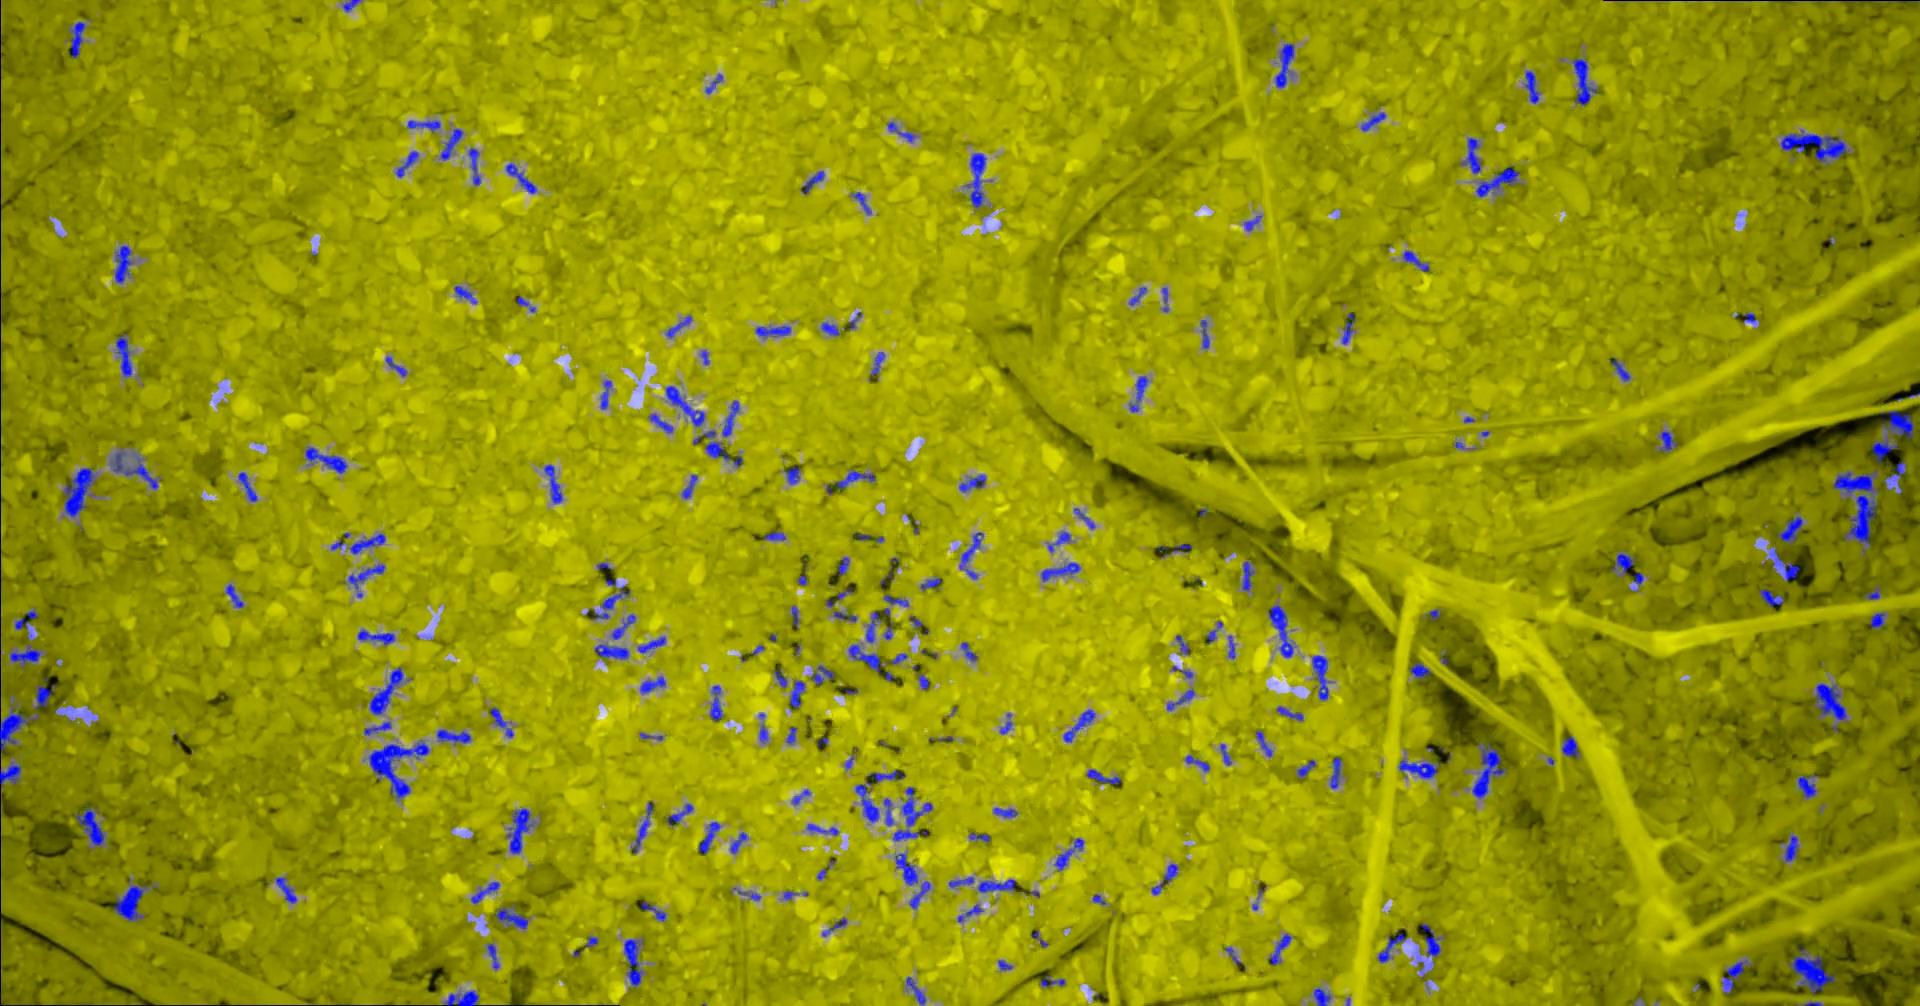ant: (1788, 945, 1835, 993), (891, 786, 932, 840), (1780, 130, 1848, 161), (1470, 743, 1505, 798), (110, 451, 157, 489), (848, 644, 895, 681), (0, 708, 36, 753), (370, 667, 403, 715), (665, 385, 703, 426), (63, 467, 94, 517), (585, 586, 629, 619), (72, 801, 104, 845), (1267, 605, 1293, 657), (1476, 165, 1519, 196), (113, 884, 147, 920), (1572, 58, 1597, 105), (959, 531, 983, 579), (505, 808, 531, 854), (1815, 683, 1846, 719), (630, 801, 651, 854), (303, 446, 345, 473), (965, 152, 985, 207), (1063, 709, 1095, 742), (1769, 546, 1799, 580), (1879, 409, 1912, 439), (1054, 837, 1083, 870), (855, 780, 877, 822), (505, 163, 536, 193), (1721, 959, 1747, 993), (347, 564, 383, 588), (1310, 655, 1331, 699), (623, 939, 643, 984), (1150, 862, 1177, 894), (865, 607, 889, 641), (702, 431, 730, 460), (1377, 934, 1404, 962), (1398, 760, 1439, 779), (1275, 43, 1293, 86), (543, 464, 563, 503), (1040, 561, 1079, 580), (439, 128, 462, 160), (495, 906, 527, 929), (834, 470, 875, 488), (1870, 436, 1897, 462), (1777, 514, 1802, 542), (489, 708, 513, 737), (895, 854, 917, 885), (114, 245, 132, 283), (116, 332, 131, 376), (349, 533, 385, 553), (698, 821, 719, 854), (1420, 923, 1440, 956), (1269, 934, 1290, 964), (1129, 375, 1147, 412), (67, 22, 85, 57), (1463, 137, 1481, 173), (470, 882, 499, 903), (611, 614, 635, 639), (395, 150, 418, 177), (665, 803, 692, 826), (721, 400, 738, 436), (1166, 688, 1192, 710), (357, 629, 394, 644), (237, 471, 257, 500), (905, 976, 924, 1005), (665, 315, 691, 337), (888, 121, 914, 141), (1402, 250, 1429, 271), (1086, 768, 1121, 784), (276, 876, 296, 903), (909, 882, 930, 908), (9, 647, 41, 663), (800, 170, 823, 193), (594, 644, 629, 659), (436, 729, 470, 744), (443, 989, 477, 1005), (1360, 111, 1385, 131), (1524, 70, 1539, 103), (957, 474, 985, 492), (977, 879, 1015, 892), (640, 901, 665, 920), (639, 676, 665, 694), (867, 770, 904, 782), (1048, 531, 1070, 551), (1611, 553, 1634, 573), (811, 664, 834, 685), (0, 763, 20, 786), (1797, 774, 1817, 796), (648, 413, 672, 432), (36, 683, 55, 708), (709, 685, 721, 720), (385, 356, 406, 376), (1073, 508, 1095, 528), (469, 147, 480, 185), (852, 191, 871, 213), (14, 610, 37, 629), (225, 583, 243, 607), (1759, 588, 1783, 606), (822, 918, 846, 936), (637, 636, 665, 652), (789, 680, 804, 708), (1255, 730, 1271, 756), (957, 904, 983, 921), (455, 285, 476, 304), (1410, 661, 1431, 680), (1561, 735, 1578, 758), (681, 474, 697, 498), (1185, 754, 1209, 771), (756, 325, 790, 337), (363, 721, 391, 735), (1784, 833, 1798, 861), (703, 72, 723, 93), (1341, 312, 1354, 343), (729, 831, 745, 854), (1276, 706, 1303, 720), (1241, 560, 1253, 589), (408, 119, 439, 131), (1330, 756, 1341, 788), (806, 823, 838, 835), (1611, 359, 1629, 380), (599, 379, 611, 409), (1128, 286, 1145, 305), (870, 351, 884, 375), (1658, 431, 1675, 451), (1886, 461, 1906, 478), (1313, 987, 1331, 1005), (960, 641, 977, 661), (1297, 760, 1316, 776), (883, 594, 908, 606), (1175, 634, 1189, 654), (883, 798, 893, 826), (919, 577, 941, 589), (1243, 215, 1261, 230), (791, 789, 809, 804), (488, 942, 498, 969), (1200, 319, 1209, 348), (785, 465, 799, 483), (993, 807, 1017, 817), (949, 876, 973, 887), (1040, 976, 1064, 986), (820, 323, 839, 335), (837, 556, 850, 575), (833, 611, 856, 621), (1869, 612, 1884, 627), (999, 713, 1011, 733), (1220, 743, 1230, 765), (1863, 587, 1879, 600), (342, 0, 359, 11), (1227, 635, 1236, 658), (775, 669, 786, 687), (1172, 542, 1191, 553), (917, 673, 930, 688), (763, 531, 785, 540), (968, 832, 989, 841), (786, 727, 796, 744), (759, 725, 767, 742)
